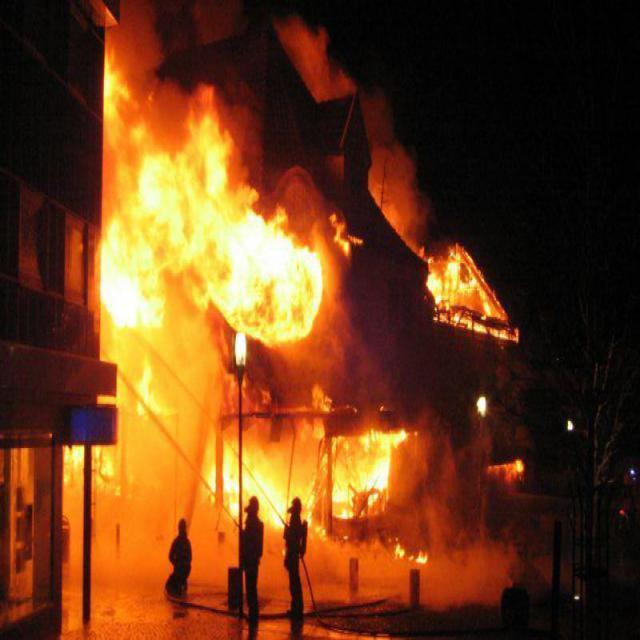Fire: (87, 67, 491, 540)
